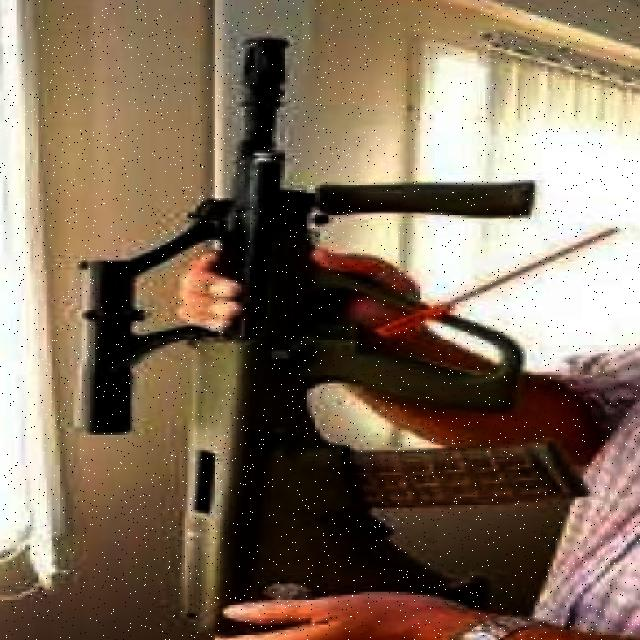Rifle: (72, 37, 594, 640)
